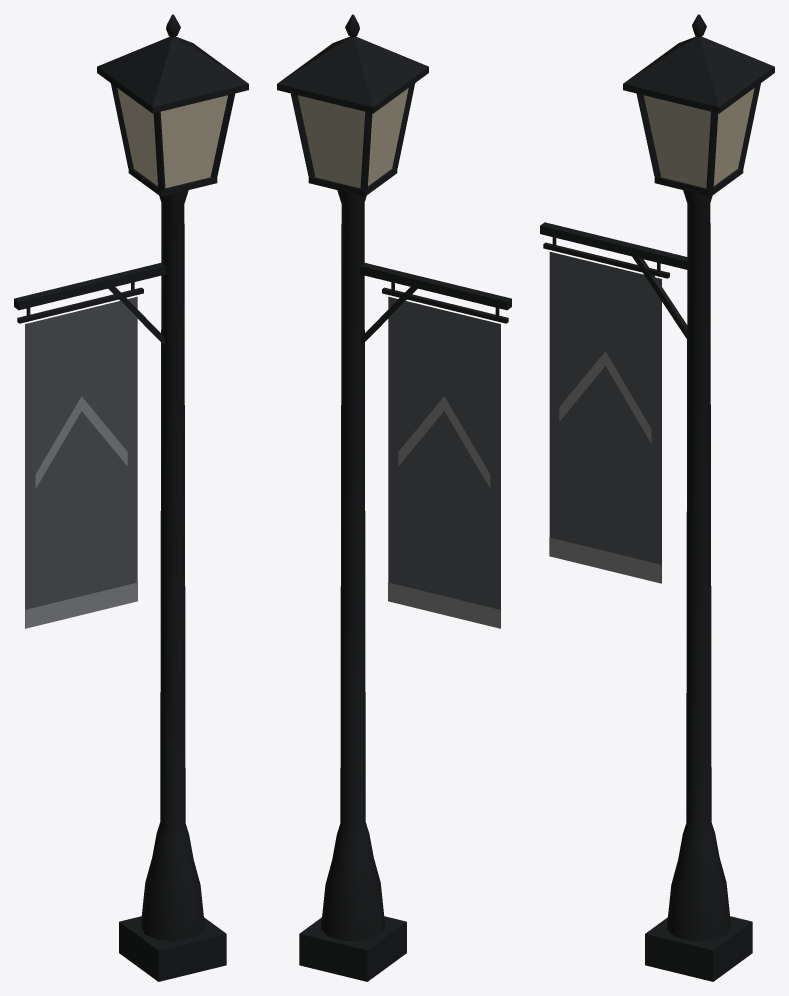
The model's file is lamp.post_banner.slate.glb.
The picture shows the model from 3 angles, left to right: view 1: azimuth 30°, elevation 25°; view 2: azimuth 150°, elevation 25°; view 3: azimuth 330°, elevation 25°; orthographic projection.
Visible parts, largest first — view 1: lamp_post_banner_slate; view 2: lamp_post_banner_slate; view 3: lamp_post_banner_slate.
Boxes of the visible parts, box(x1,y1,x2,y2) form: lamp_post_banner_slate: box(14, 14, 248, 981); lamp_post_banner_slate: box(277, 14, 511, 981); lamp_post_banner_slate: box(540, 14, 774, 981).
Size of what is drawn, in the model's own units: 1.02 by 4.5 by 0.48.
